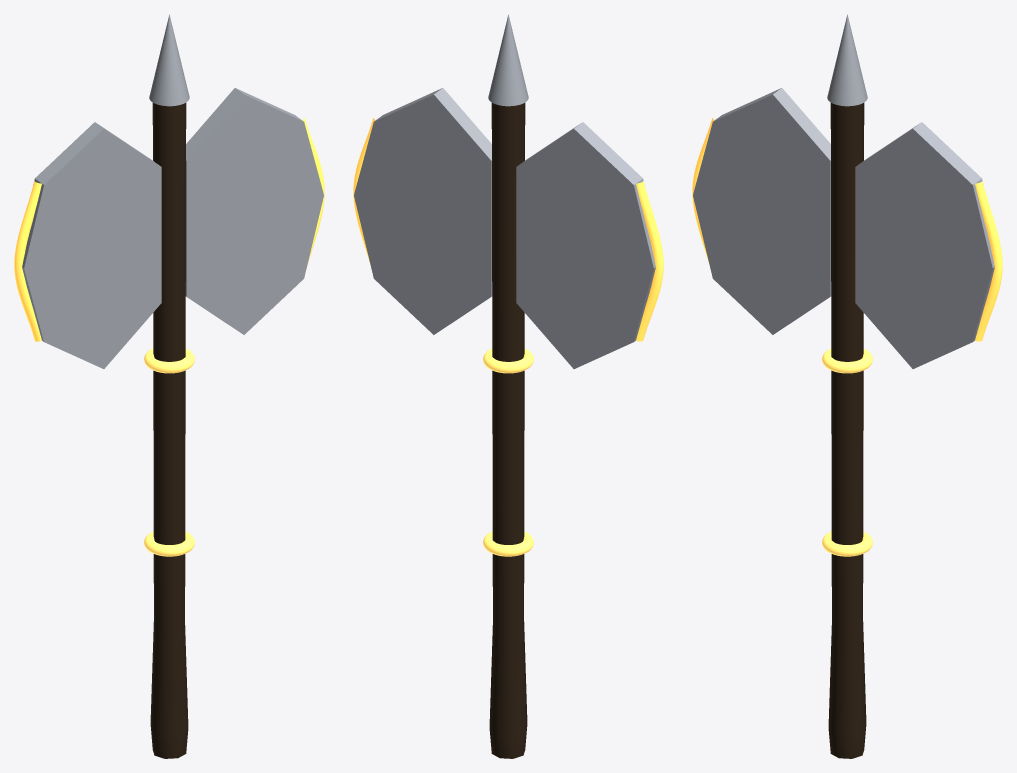
File: battle_axe.glb
3 renders of one model, left to right at view 1: azimuth 30°, elevation 25°; view 2: azimuth 150°, elevation 25°; view 3: azimuth 330°, elevation 25°, orthographic.
Visible parts, largest first — view 1: ba_blade_l, ba_blade_r, ba_shaft, ba_top, ba_edge_l, ba_band1, ba_band2; view 2: ba_blade_l, ba_blade_r, ba_shaft, ba_top, ba_edge_l, ba_band1, ba_band2; view 3: ba_blade_r, ba_blade_l, ba_shaft, ba_top, ba_edge_r, ba_band1, ba_band2.
Part boxes in pixels (x1,y1,x2,y2): ba_blade_l: (22, 122, 161, 368); ba_blade_r: (185, 88, 323, 334); ba_shaft: (150, 103, 188, 758); ba_top: (149, 14, 189, 106); ba_edge_l: (14, 181, 41, 341); ba_band1: (144, 348, 194, 373); ba_band2: (144, 531, 194, 556); ba_blade_l: (516, 122, 655, 368); ba_blade_r: (354, 88, 492, 334); ba_shaft: (489, 103, 527, 758); ba_top: (488, 14, 528, 106); ba_edge_l: (636, 181, 663, 341); ba_band1: (483, 348, 533, 373); ba_band2: (483, 531, 533, 556); ba_blade_r: (855, 122, 994, 368); ba_blade_l: (693, 88, 831, 334); ba_shaft: (828, 103, 866, 758); ba_top: (827, 14, 867, 106); ba_edge_r: (975, 181, 1002, 341); ba_band1: (822, 348, 872, 373); ba_band2: (822, 531, 872, 556).
Size of the model in its own units: 0.618 by 1.41 by 0.088.
